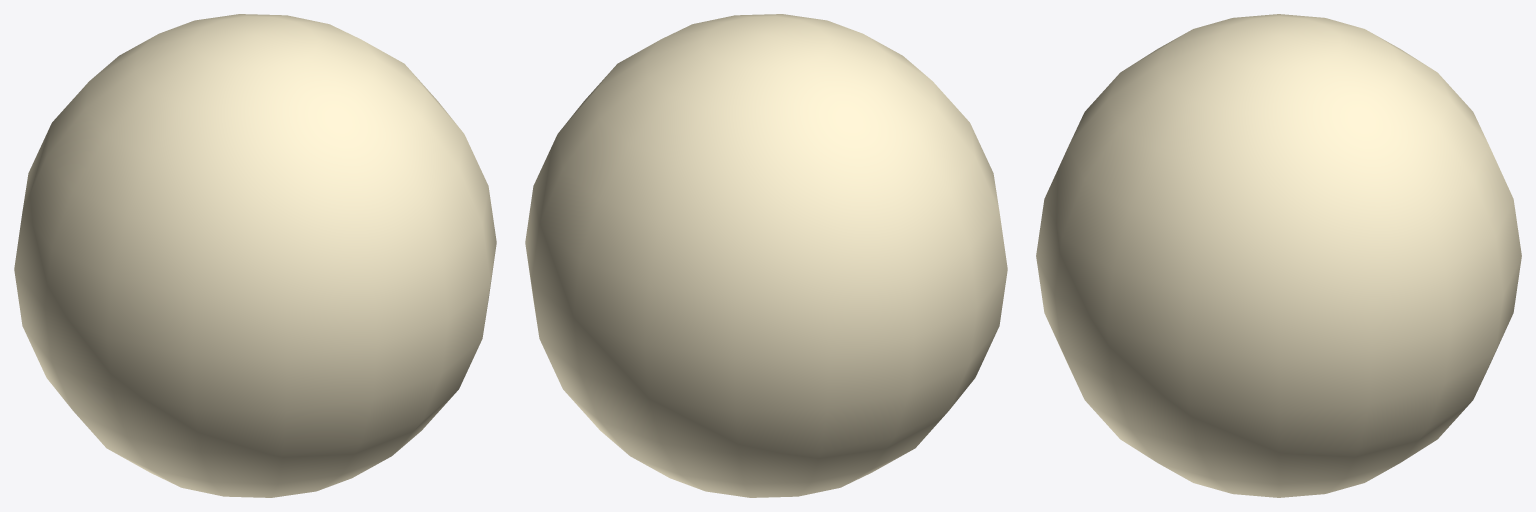
The model's file is item_ball.glb.
3 views of the same model, side by side, from view 1: azimuth 30°, elevation 25°; view 2: azimuth 150°, elevation 25°; view 3: azimuth 270°, elevation 25° (orthographic).
Parts seen in each view (by area): view 1: ball; view 2: ball; view 3: ball.
Boxes of the visible parts, bbox=[...] form: ball: bbox=[14, 14, 496, 497]; ball: bbox=[525, 14, 1007, 497]; ball: bbox=[1036, 14, 1521, 497].
Bounding box in the file's own units: 0.04 × 0.04 × 0.04.
